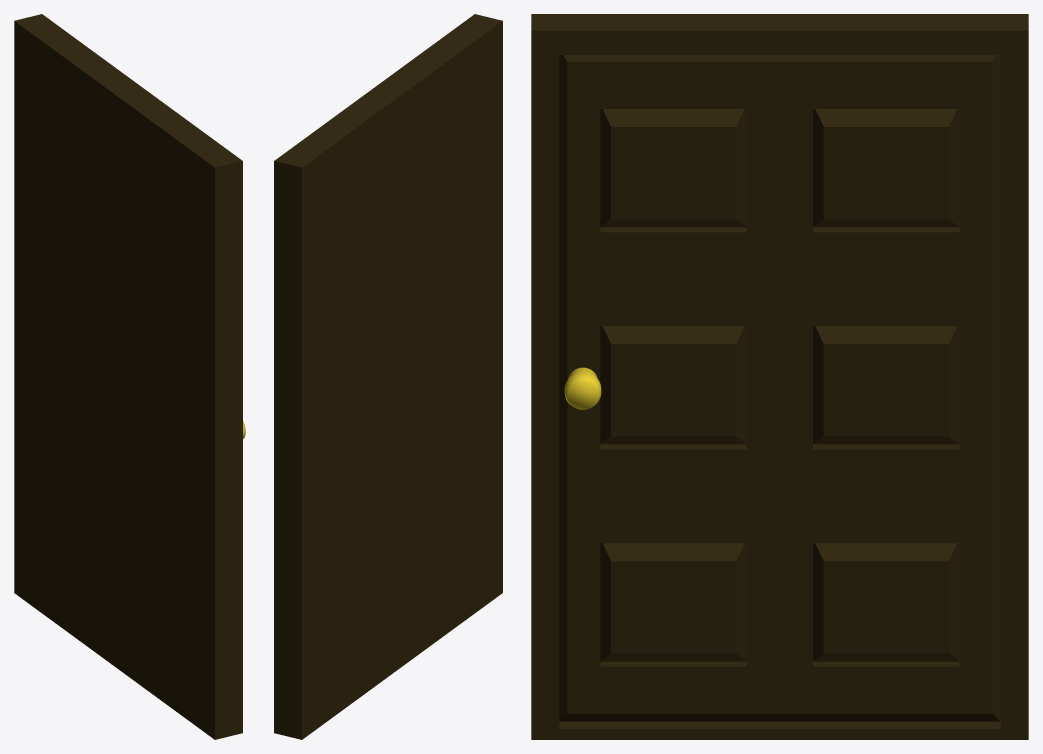
The model's file is door.fbx.
3 views of the same model, side by side, from view 1: azimuth 30°, elevation 25°; view 2: azimuth 150°, elevation 25°; view 3: azimuth 270°, elevation 25° (orthographic). The views are drawn at different scales.
Visible parts, largest first — view 1: Cube; view 2: Cube; view 3: Cube.
Boxes of the visible parts, x1,y1,x2,y2 form: Cube: (14,14,245,739); Cube: (274,14,502,739); Cube: (531,14,1028,739).
Bounding box in the file's own units: 105 × 1262 × 803.
